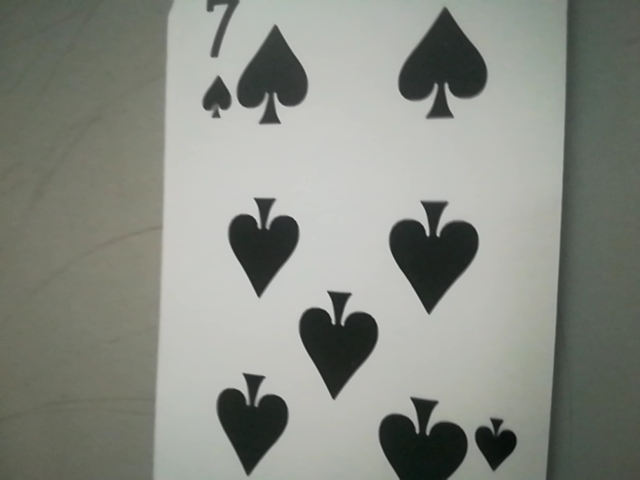ht 7: (181, 5, 248, 130)
